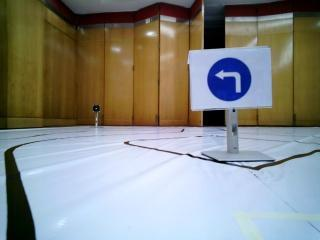left: (189, 52, 272, 108)
